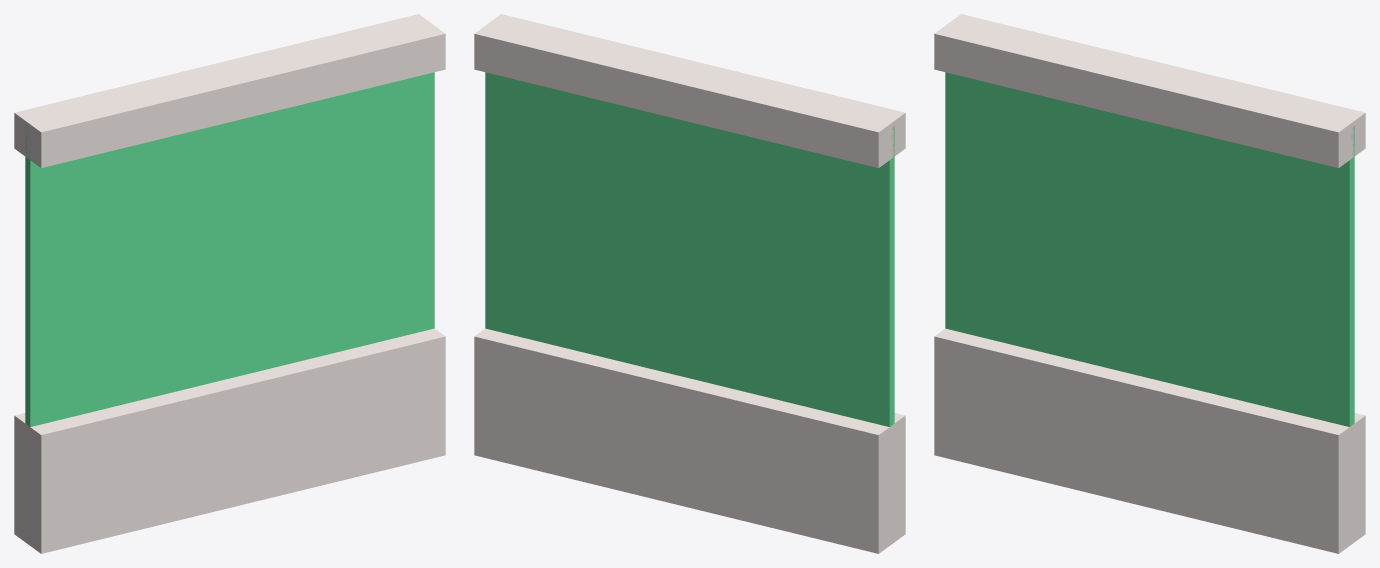
File: tuong kinh.FBX
3 renders of one model, left to right at view 1: azimuth 30°, elevation 25°; view 2: azimuth 150°, elevation 25°; view 3: azimuth 330°, elevation 25°, orthographic.
Visible parts, largest first — view 1: Object1382, Object1381; view 2: Object1382, Object1381; view 3: Object1382, Object1381.
Part boxes in pixels (left/top/right/bottom): Object1382: left=25, top=72, right=434, bottom=426; Object1381: left=14, top=14, right=445, bottom=553; Object1382: left=485, top=72, right=894, bottom=426; Object1381: left=474, top=14, right=905, bottom=553; Object1382: left=945, top=72, right=1354, bottom=426; Object1381: left=934, top=14, right=1365, bottom=553.
Bounding box in the file's own units: 5.33 × 5.31 × 0.6164.
